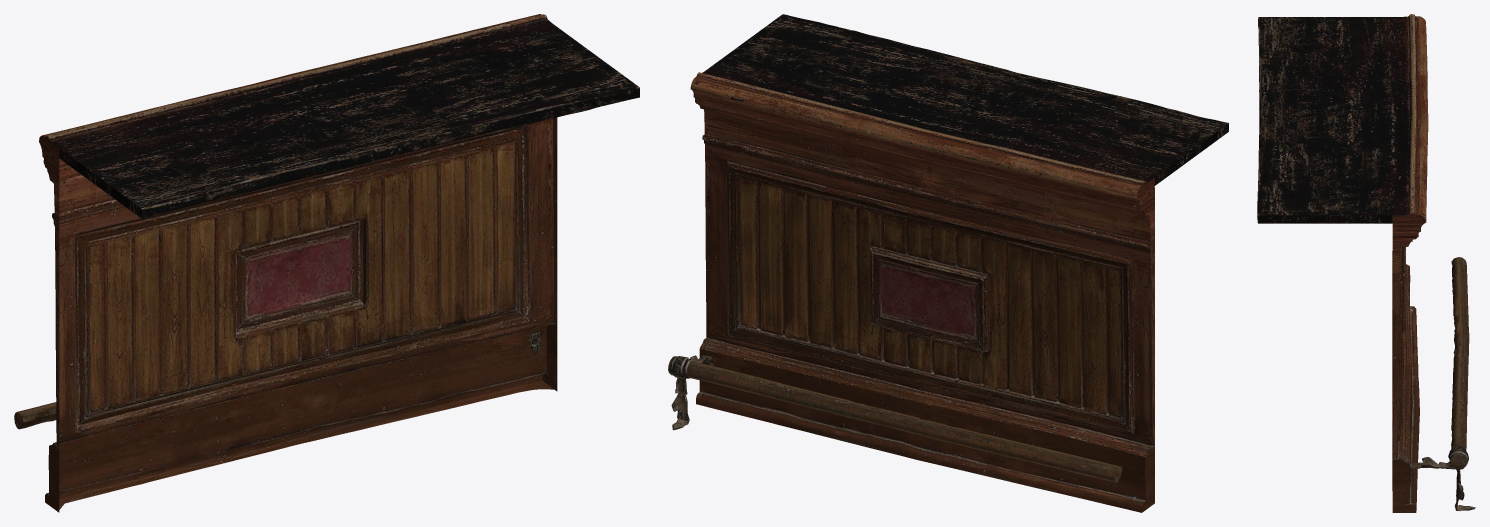
The model's file is bar-counter.glb.
3 renders of one model, left to right at view 1: azimuth 30°, elevation 25°; view 2: azimuth 150°, elevation 25°; view 3: azimuth 270°, elevation 25°, orthographic. The views are drawn at different scales.
Parts seen in each view (by area): view 1: bar-counter; view 2: bar-counter; view 3: bar-counter.
Part boxes in pixels (<box>): bar-counter: <box>14,14,639,512</box>; bar-counter: <box>668,14,1228,512</box>; bar-counter: <box>1257,14,1475,512</box>.
Bounding box in the file's own units: 1.5 × 1.06 × 0.6985.
1 material, 1 textured.
